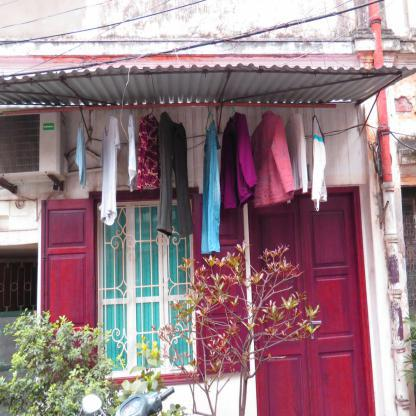door: (298, 194, 370, 416)
lever: (310, 319, 322, 327)
